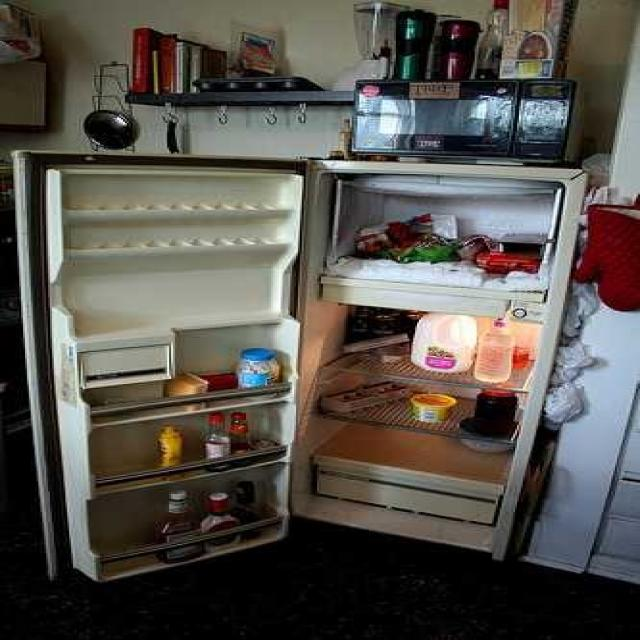refrigerator: (22, 153, 558, 552)
